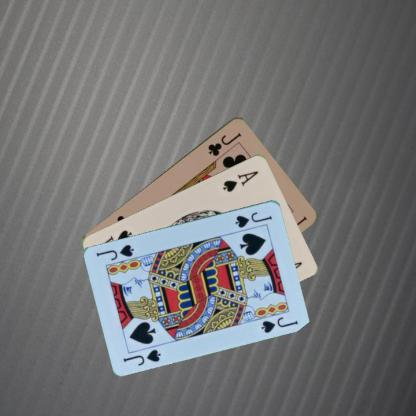As: (220, 168, 260, 193)
Jc: (205, 130, 243, 157)
Js: (121, 346, 162, 367), (232, 209, 274, 229)
